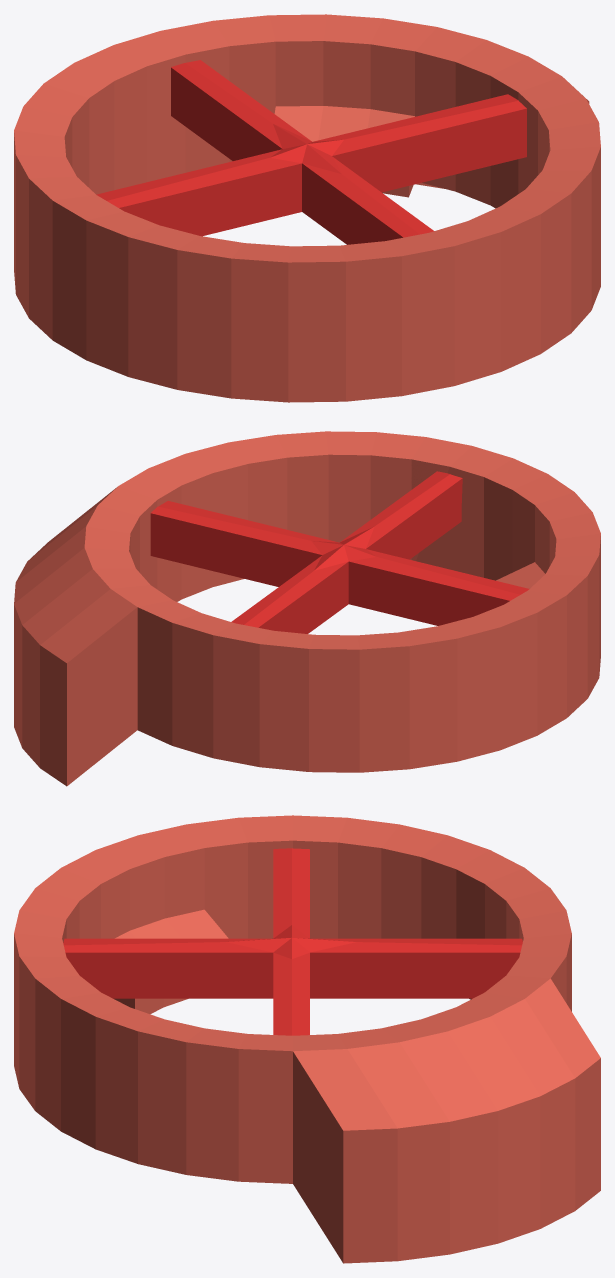
Rendered from Helice.fbx.
The picture shows the model from 3 angles, top to bottom: view 1: azimuth 30°, elevation 25°; view 2: azimuth 150°, elevation 25°; view 3: azimuth 270°, elevation 25°; orthographic projection. The views are drawn at different scales.
Parts seen in each view (by area): view 1: Cylinder, Cube; view 2: Cylinder, Cube; view 3: Cylinder, Cube.
Part boxes in pixels (x1,y1,x2,y2): Cylinder: (14,14,600,402); Cube: (96,60,526,244); Cylinder: (14,431,600,786); Cube: (150,471,529,633); Cylinder: (14,815,600,1263); Cube: (63,848,522,1035).
Size of the model in its own units: 221 by 74.15 by 210.
